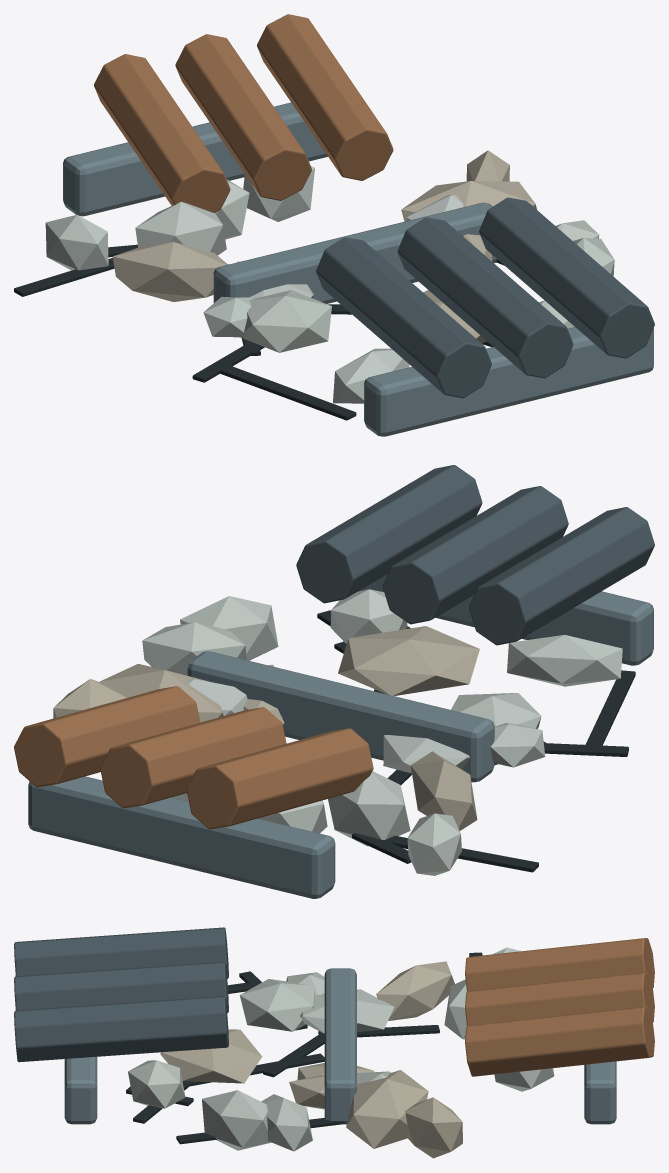
File: utility_conduit_d3.glb
The picture shows the model from 3 angles, top to bottom: view 1: azimuth 30°, elevation 25°; view 2: azimuth 150°, elevation 25°; view 3: azimuth 270°, elevation 25°; orthographic projection. The views are drawn at different scales.
Parts seen in each view (by area): view 1: Severed service pipe.005, Severed service pipe.003, Severed service pipe.004, Duct saddle.009, Bent pipe.004, Bent pipe.005, Bent pipe.003, Duct saddle.011, Duct saddle.010, Bounded fractured debris.294, Bounded fractured debris.304, Bounded fractured debris.301 (+12 smaller); view 2: Duct saddle.011, Duct saddle.010, Severed service pipe.003, Severed service pipe.004, Severed service pipe.005, Bent pipe.003, Bent pipe.004, Bent pipe.005, Bounded fractured debris.300, Duct saddle.009, Bounded fractured debris.308, Bounded fractured debris.301 (+16 smaller); view 3: Severed service pipe.005, Bent pipe.005, Severed service pipe.003, Severed service pipe.004, Bent pipe.003, Bent pipe.004, Duct saddle.010, Bounded fractured debris.303, Bounded fractured debris.295, Bounded fractured debris.300, Bounded fractured debris.304, Bounded fractured debris.294 (+15 smaller).
Boxes of the visible parts, x1,y1,x2,y2 form: Severed service pipe.005: (479,197,654,358); Severed service pipe.003: (316,237,491,398); Severed service pipe.004: (397,217,573,378); Duct saddle.009: (364,327,653,436); Bent pipe.004: (175,34,311,200); Bent pipe.005: (257,14,393,180); Bent pipe.003: (94,54,230,212); Duct saddle.011: (63,102,327,216); Duct saddle.010: (213,202,497,303); Bounded fractured debris.294: (112,242,227,301); Bounded fractured debris.304: (240,290,331,352); Bounded fractured debris.301: (135,202,226,255); Duct saddle.011: (28,776,335,898); Duct saddle.010: (187,651,494,782); Severed service pipe.003: (469,507,654,645); Severed service pipe.004: (382,486,568,624); Severed service pipe.005: (296,465,482,603); Bent pipe.003: (186,728,373,829); Bent pipe.004: (100,707,286,808); Bent pipe.005: (14,686,200,787); Bounded fractured debris.300: (338,626,479,695); Duct saddle.009: (358,574,653,665); Bounded fractured debris.308: (507,635,622,686); Bounded fractured debris.301: (328,771,410,846); Severed service pipe.005: (14,996,228,1062); Bent pipe.005: (465,1006,654,1076); Severed service pipe.003: (14,927,228,978); Severed service pipe.004: (14,961,228,1012); Bent pipe.003: (465,938,654,991); Bent pipe.004: (465,972,654,1025); Duct saddle.010: (324,968,356,1124); Bounded fractured debris.303: (346,1070,428,1148); Bounded fractured debris.295: (202,1090,271,1150); Bounded fractured debris.300: (160,1029,262,1083); Bounded fractured debris.304: (239,979,314,1031); Bounded fractured debris.294: (376,961,454,1020).
Bounding box in the file's own units: 2.92 × 0.8136 × 3.95.
